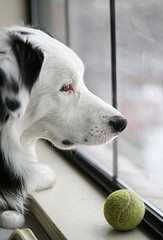tennis ball: (103, 188, 146, 231)
